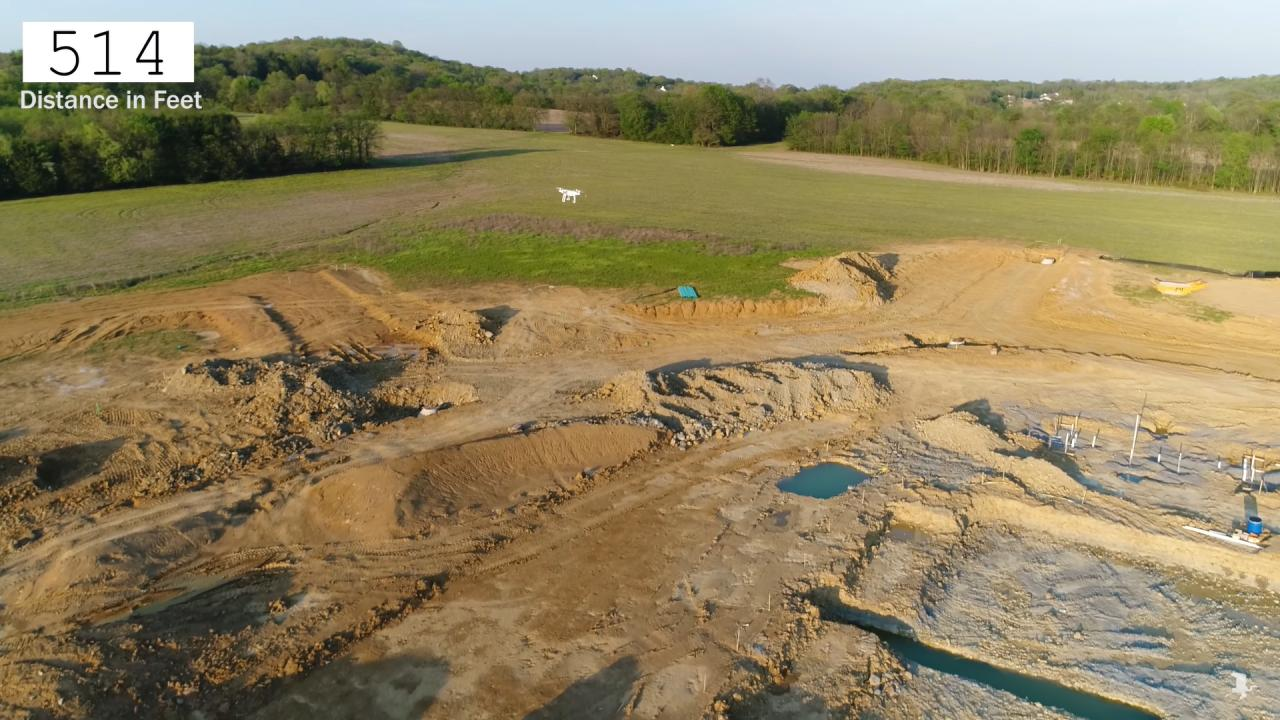Drone: (548, 178, 588, 211)
